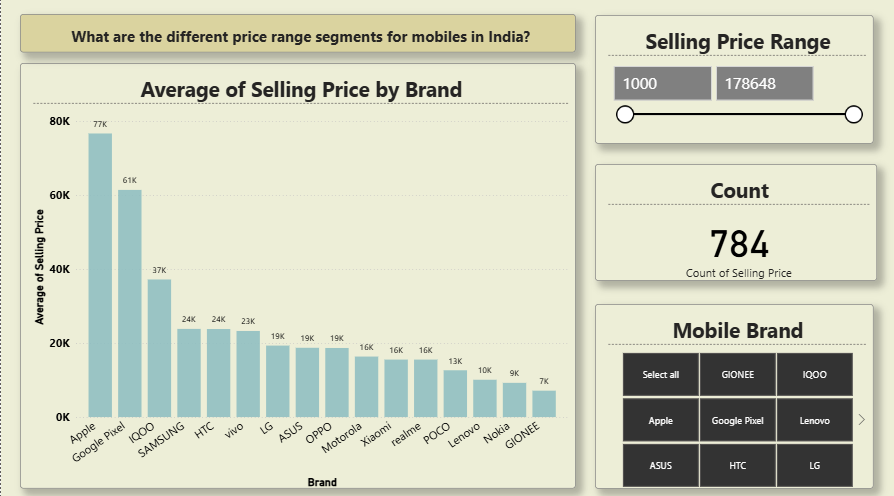

The dashboard page shown, as its layout file describes it:
{"tool":"powerbi","page":{"name":"Price_Segment","canvas":[1280,720],"ordinal":0},"visuals":[{"type":"clusteredColumnChart","fields":{"Category":["Flipkart_mobile_brands_scraped_data.Brand"],"Y":["Avg(Flipkart_mobile_brands_scraped_data.Selling Price)"]},"box":[26.8,93,793.7,607.8],"z":0},{"type":"slicer","title":"Selling Price Range","fields":{"Values":["Flipkart_mobile_brands_scraped_data.Selling Price"]},"box":[849.2,23.8,398.4,184.1],"z":1000},{"type":"card","title":"Count","fields":{"Values":["Count(Flipkart_mobile_brands_scraped_data.Selling Price)"]},"box":[849.2,236.5,403.2,166.7],"z":2000},{"type":"slicer","title":"Mobile Brand","fields":{"Values":["Flipkart_mobile_brands_scraped_data.Brand"]},"box":[849,436.7,398.1,264],"z":3000},{"type":"textbox","box":[26.8,23.2,793.7,55.4],"z":4000}]}

Visuals, with their boxes in screenshot pixels (x1, y1, x2, y2), scaled from the page's 1280x720 canvas onto the 894x496 screenshot:
clusteredColumnChart - Flipkart_mobile_brands_scraped_data.Brand x Avg(Flipkart_mobile_brands_scraped_data.Selling Price): [19, 64, 573, 483]
"Selling Price Range" slicer: [593, 16, 871, 143]
"Count" card: [593, 163, 875, 278]
"Mobile Brand" slicer: [593, 301, 871, 483]
textbox: [19, 16, 573, 54]
